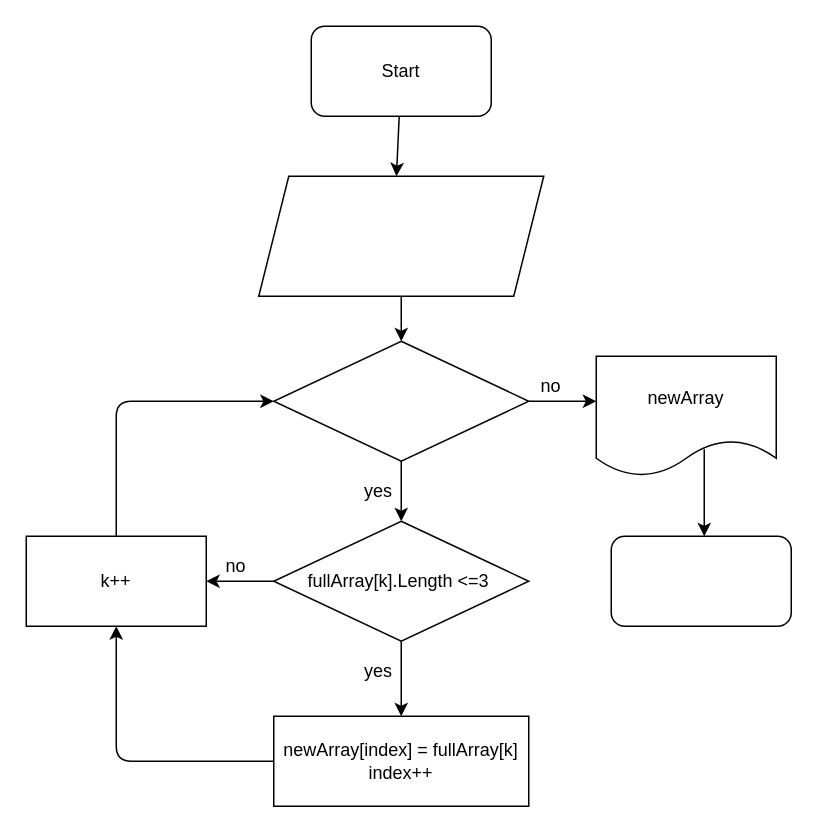
Some shapes in this 818 by 833 pixel diagram are drawn without their labels. Here are the shapes that lost their labels. From the top down, the centre of each, then its label:
At pixel 400 235: "string[ ] fullArray string[ ] newArray int n index = 0 k = 0".
At pixel 400 400: "k<fullArray.Length".
At pixel 700 580: "end".
